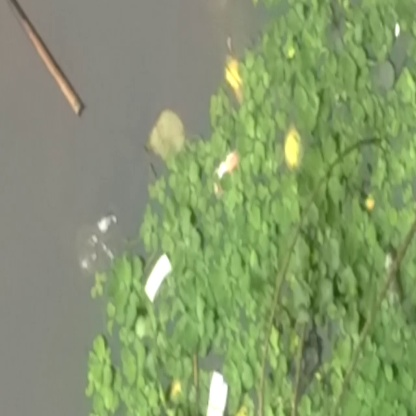branch: (18, 5, 93, 118)
